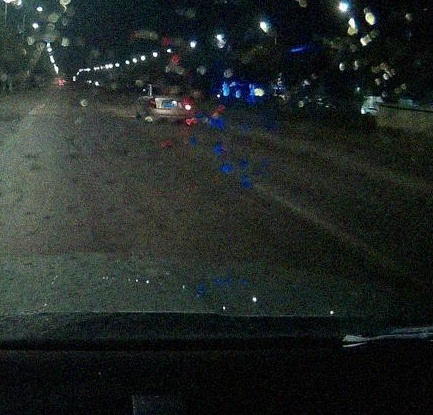L_light: (149, 98, 156, 108)
R_light: (184, 100, 191, 110)
T_light: (161, 86, 169, 88)
night-right: (148, 84, 192, 124)
